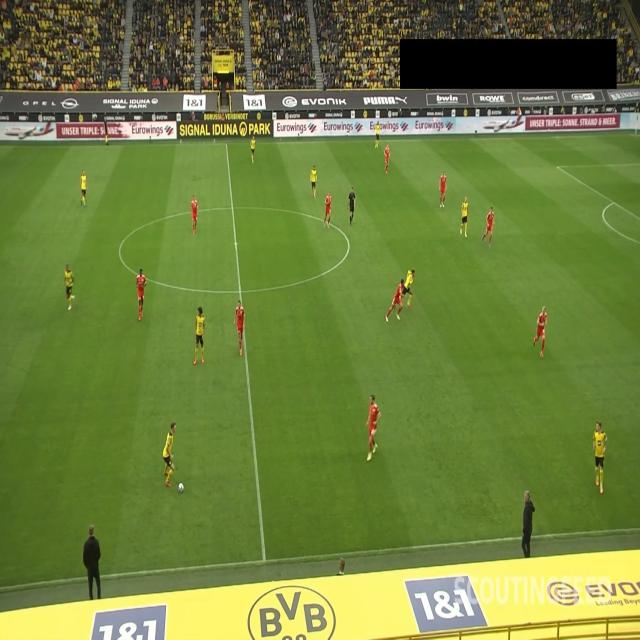ball: (178, 481, 184, 494)
